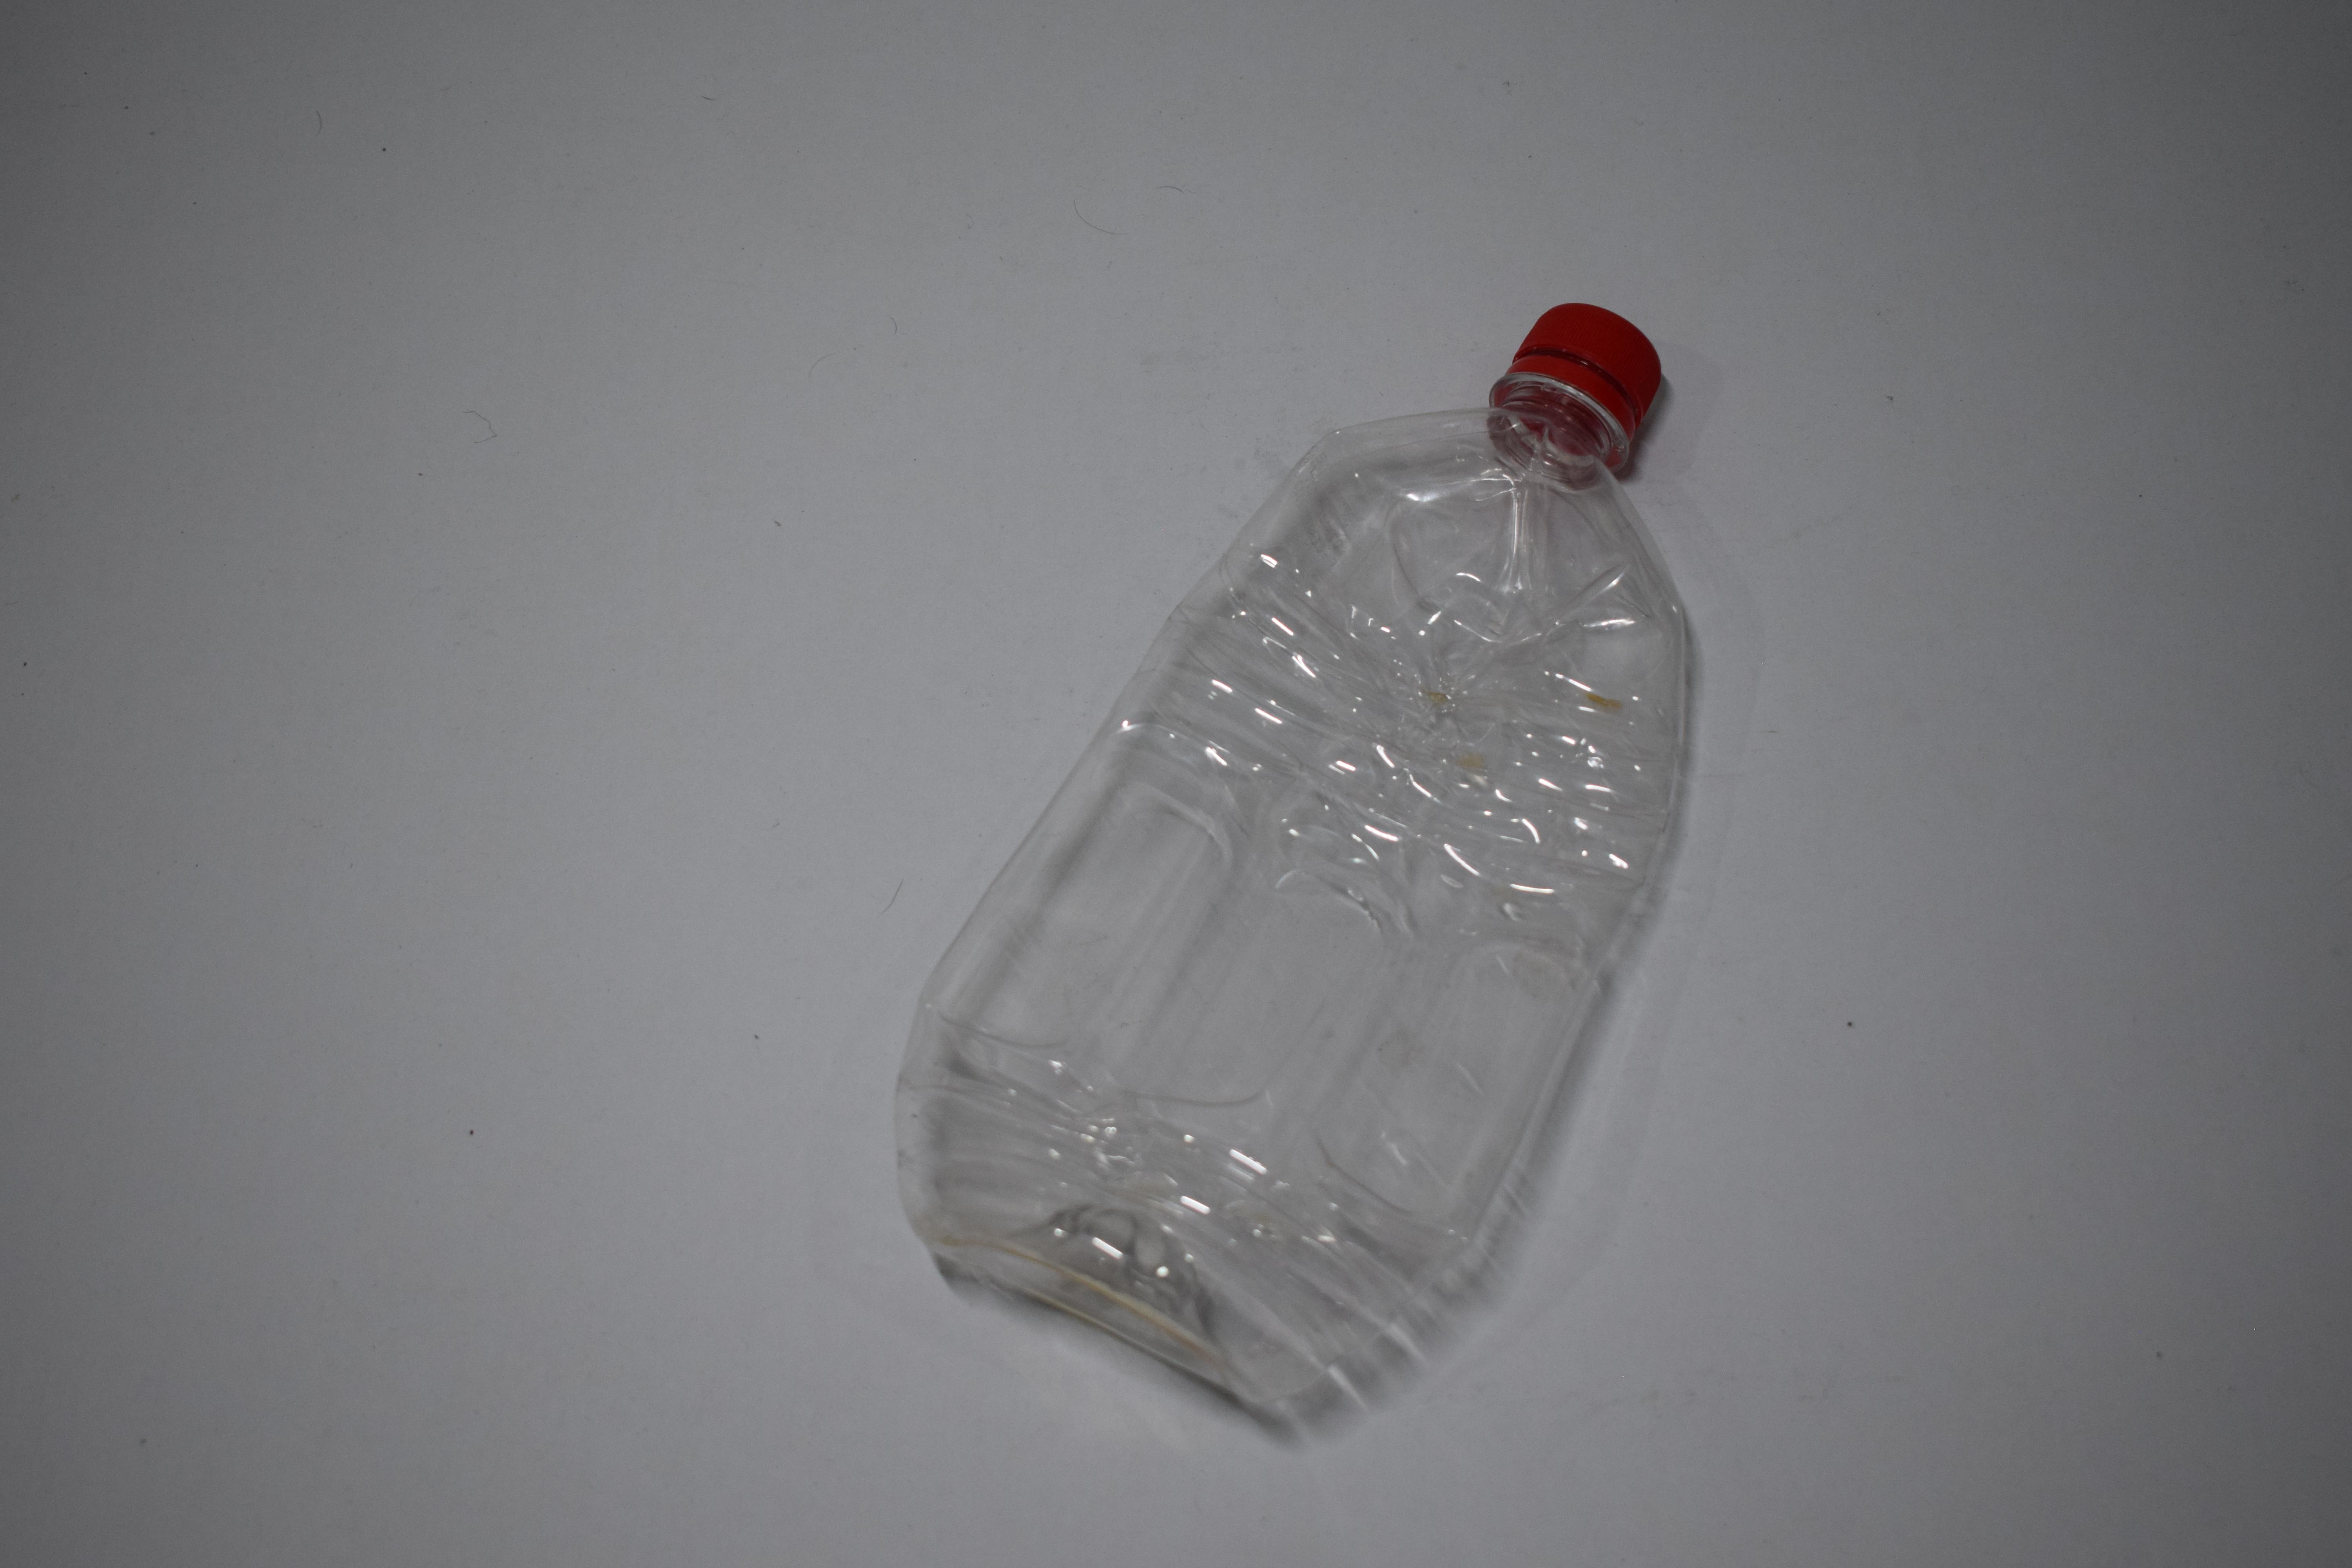bottle: (0, 0, 357, 572)
